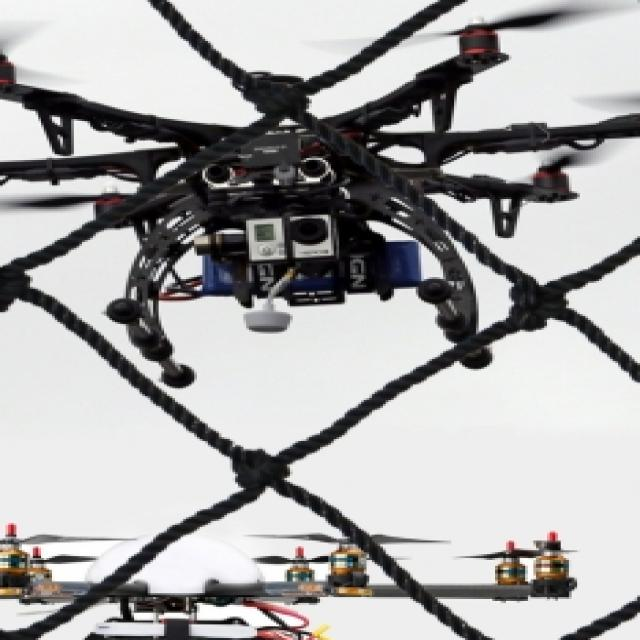drone: (0, 12, 640, 367), (0, 491, 618, 640)
